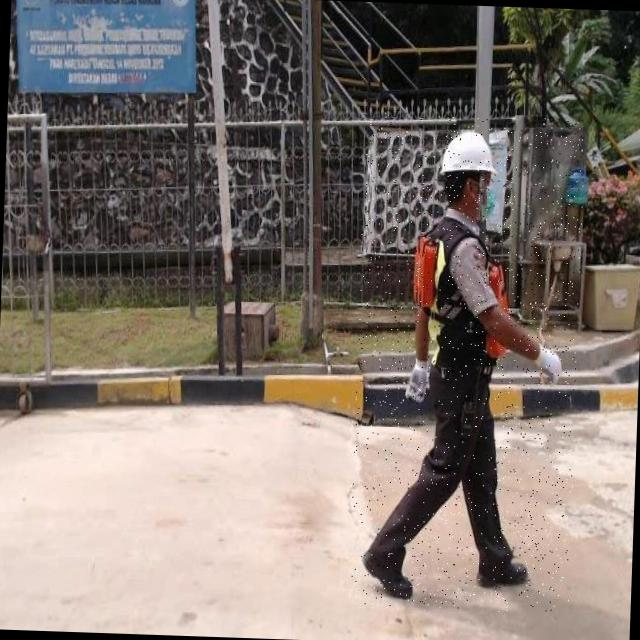hard_hat: (440, 126, 499, 185)
safety_vest: (408, 216, 514, 368)
vehicle: (348, 112, 585, 615)
work_boots: (361, 538, 418, 604), (474, 552, 534, 596)
